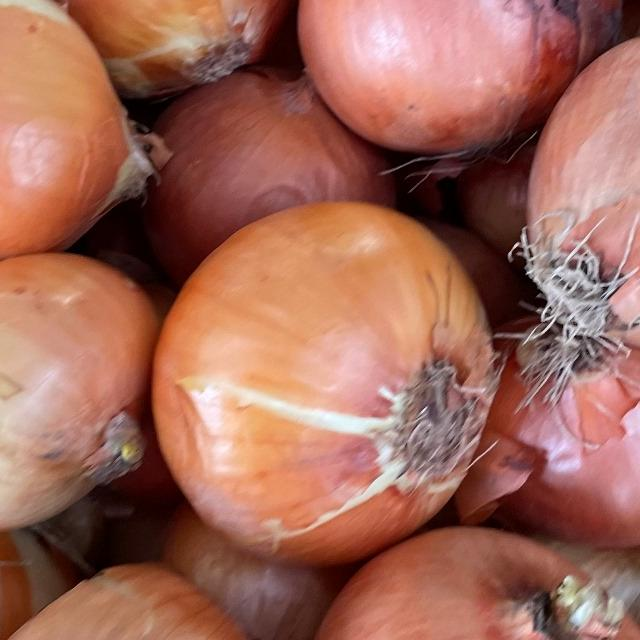onion: (142, 192, 502, 572), (500, 0, 640, 372), (280, 497, 640, 640), (0, 550, 277, 640)
